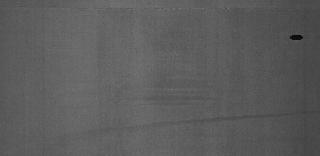punching hole: (290, 32, 306, 42)
